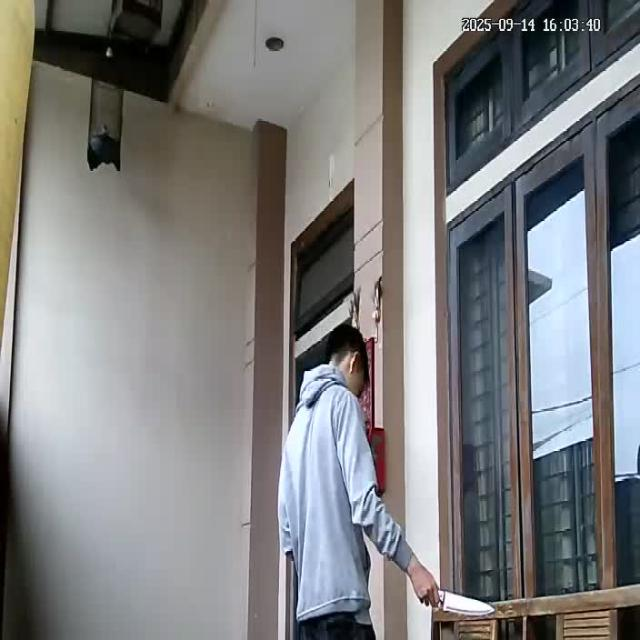senjata_tajam: (438, 586, 496, 616)
